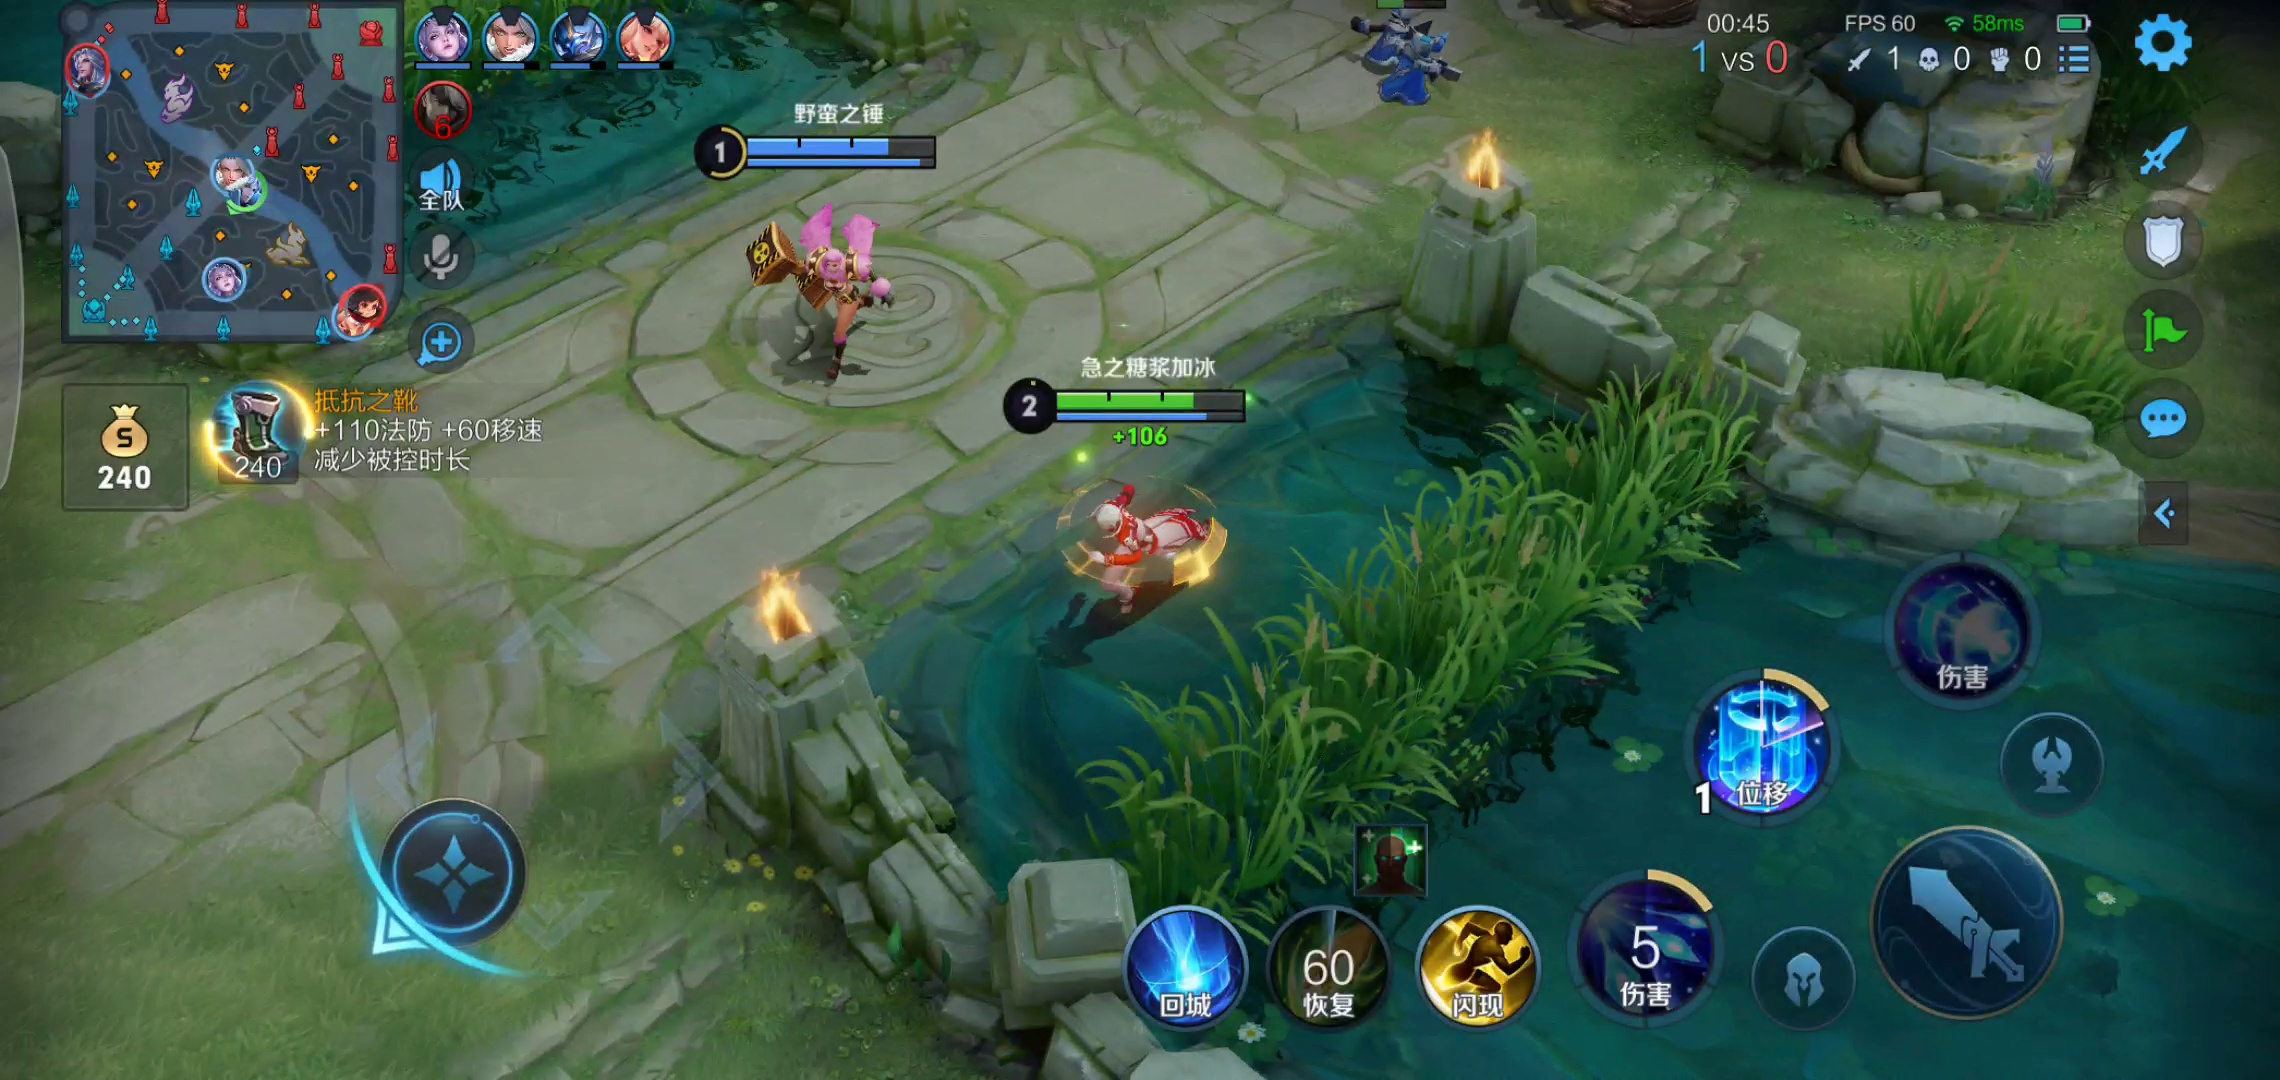grass: (1031, 400, 1755, 943), (1887, 262, 2152, 454)
hero: (721, 195, 912, 394), (1061, 459, 1217, 618)
soldier: (1349, 1, 1460, 129)
